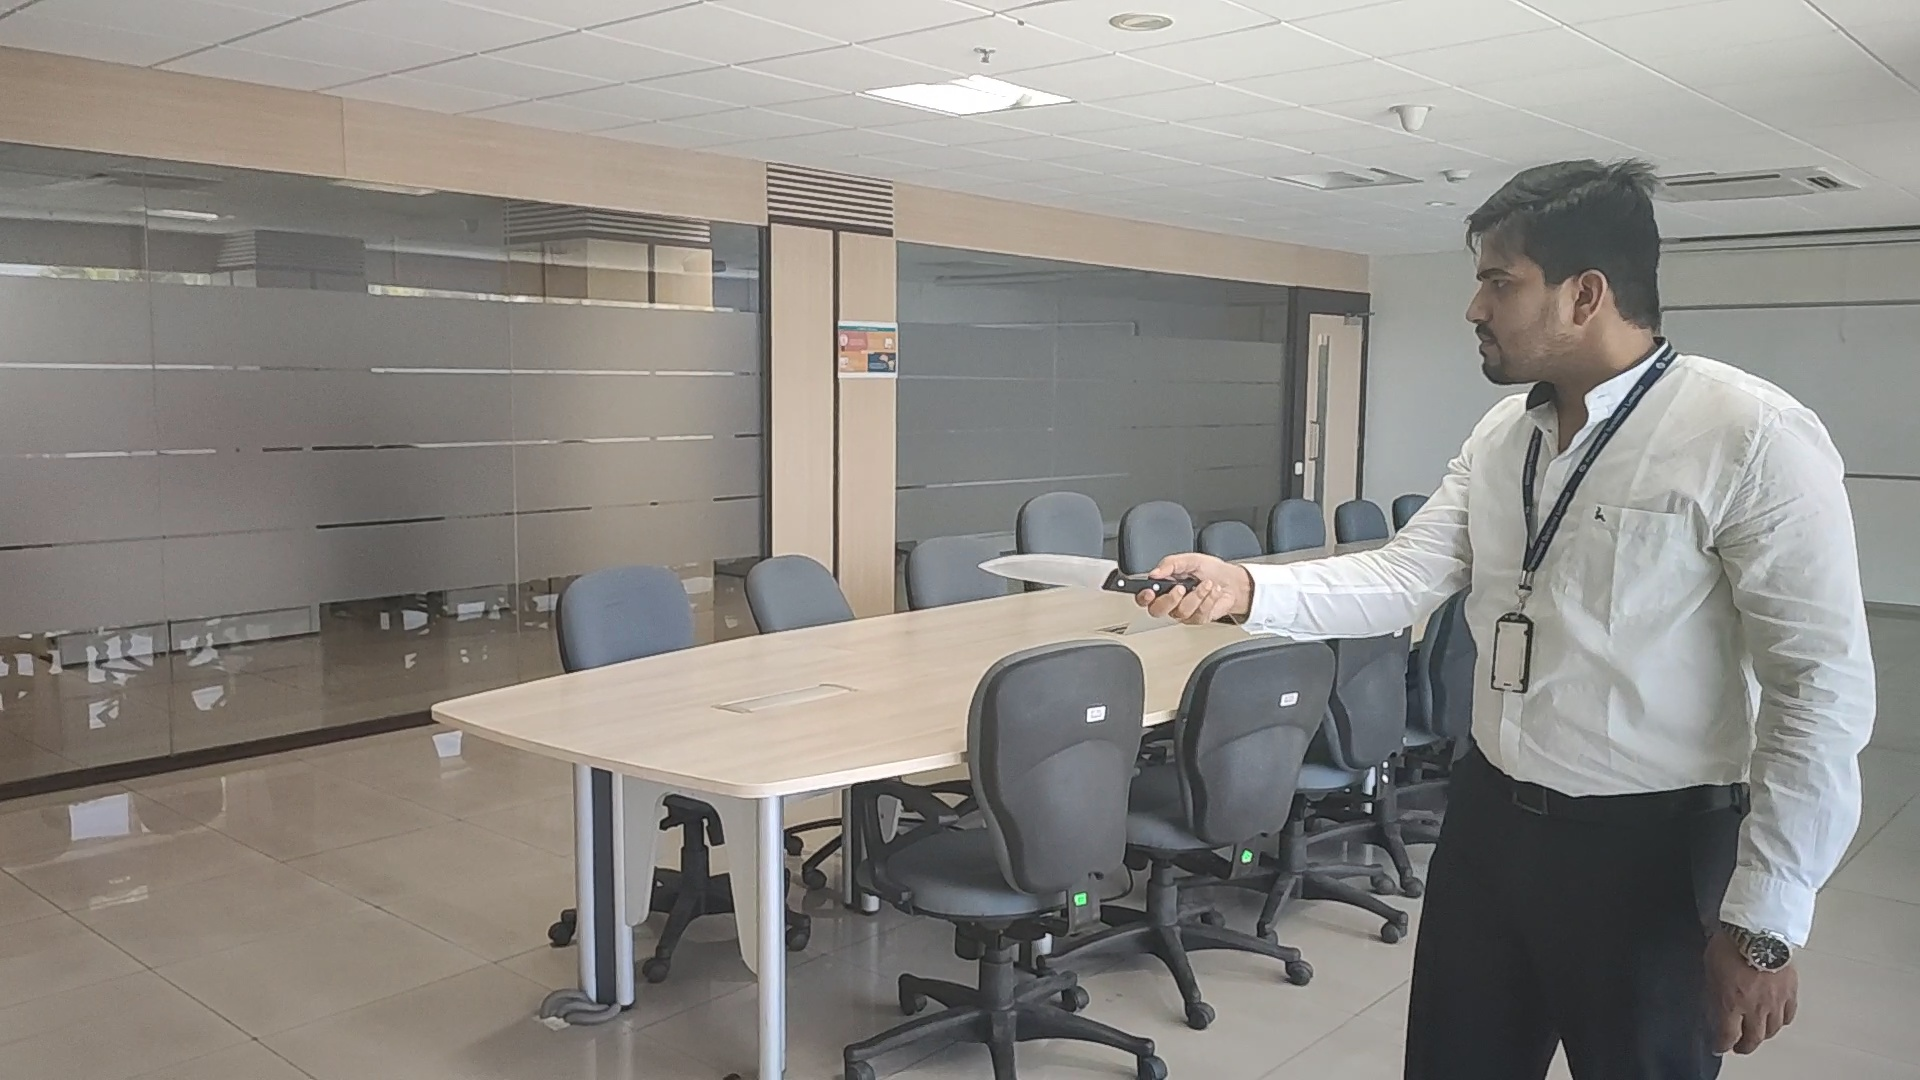knife: (976, 551, 1167, 597)
